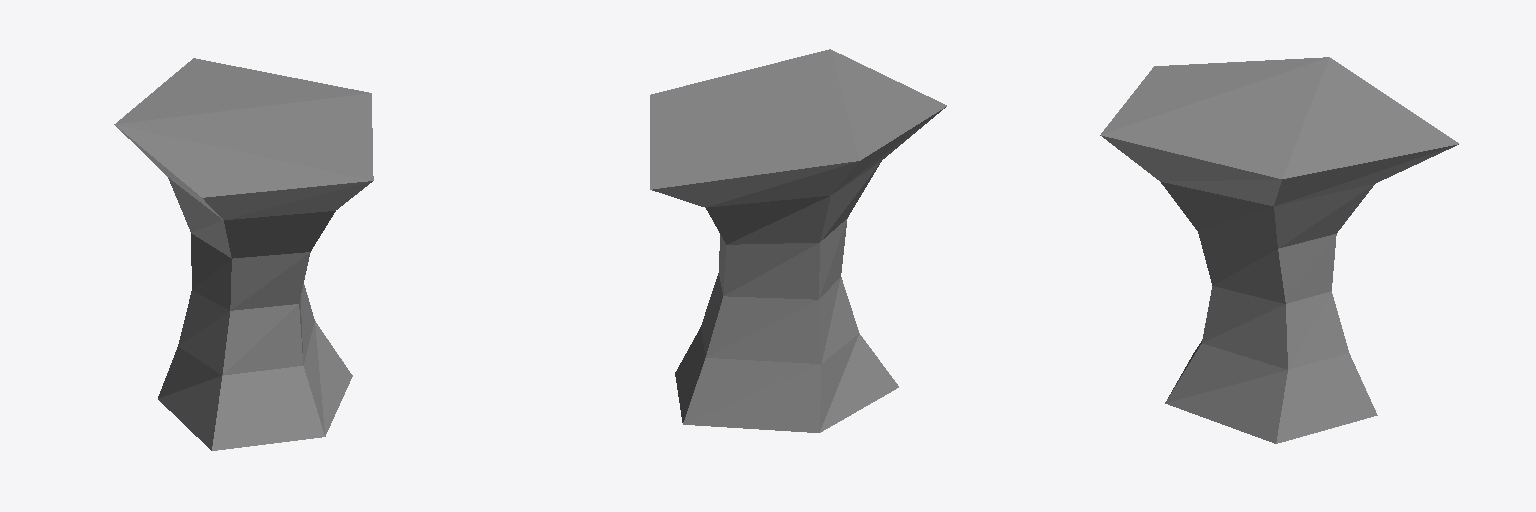
File: Riesenstalagmit.obj
The picture shows the model from 3 angles: view 1: azimuth 30°, elevation 25°; view 2: azimuth 150°, elevation 25°; view 3: azimuth 270°, elevation 25°; orthographic projection.
Visible parts, largest first — view 1: Object001; view 2: Object001; view 3: Object001.
Boxes of the visible parts, x1=… form: Object001: x1=114, y1=58, x2=373, y2=450; Object001: x1=650, y1=49, x2=946, y2=432; Object001: x1=1100, y1=57, x2=1458, y2=443.
Size of the model in its own units: 249 by 289 by 333.